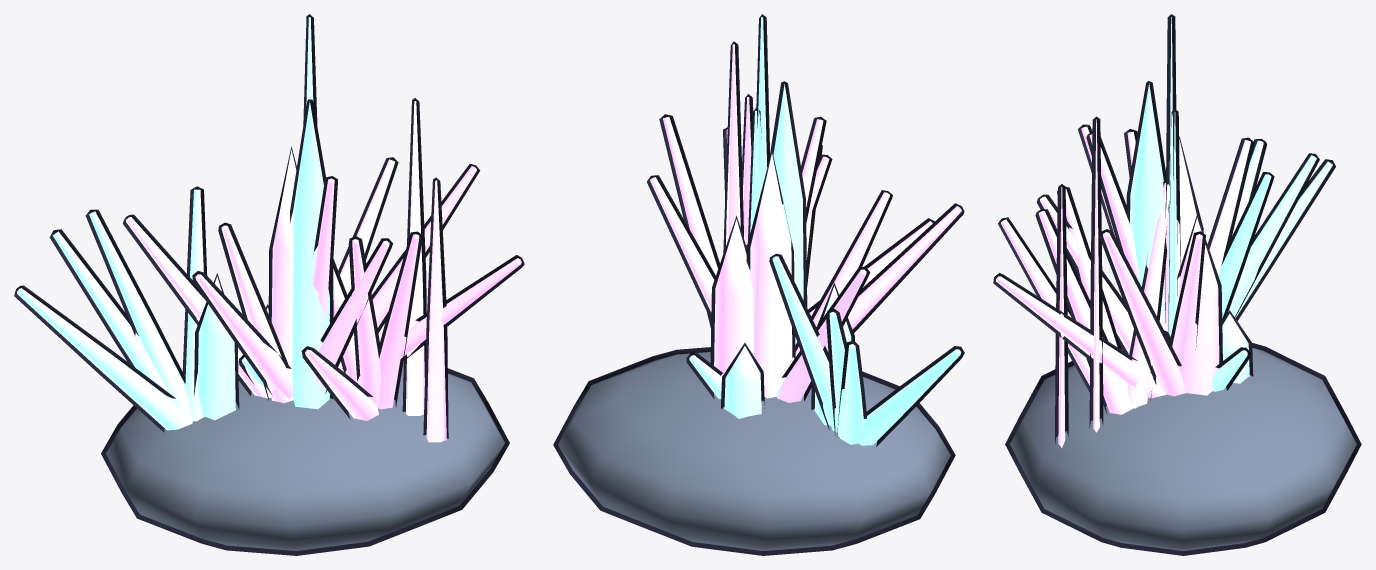
Rendered from coral_1.glb.
3 views of the same model, side by side, from view 1: azimuth 30°, elevation 25°; view 2: azimuth 150°, elevation 25°; view 3: azimuth 270°, elevation 25° (orthographic). The views are drawn at different scales.
Visible parts, largest first — view 1: Coral; view 2: Coral; view 3: Coral.
Boxes of the visible parts, x1=… form: Coral: x1=14, y1=14, x2=524, y2=555; Coral: x1=553, y1=14, x2=964, y2=555; Coral: x1=993, y1=14, x2=1361, y2=555.
Bounding box in the file's own units: 4.07 × 4.57 × 3.06.
